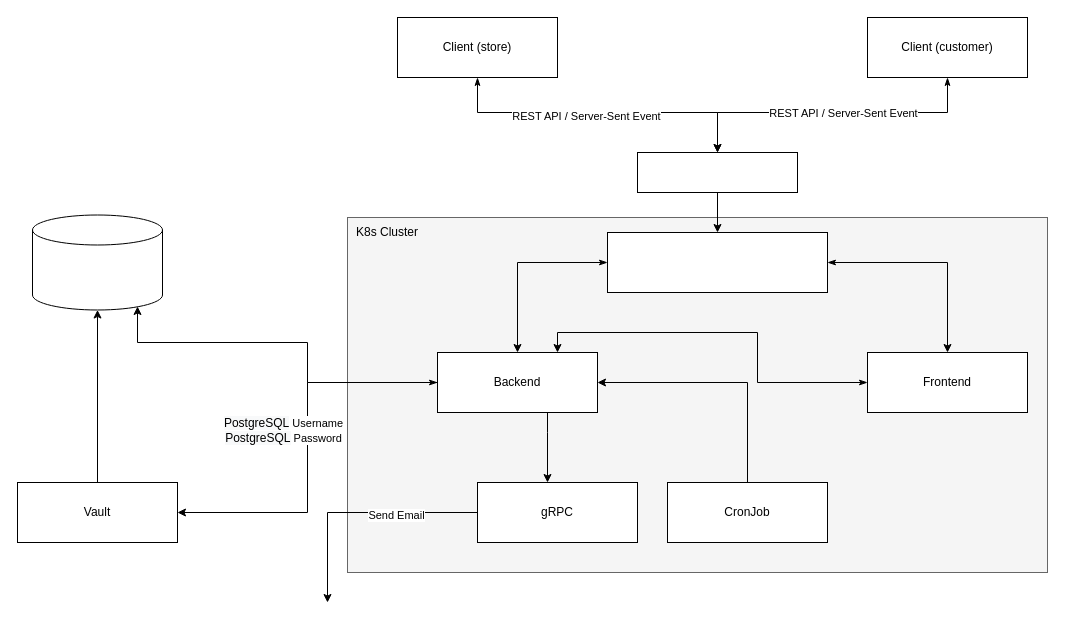
Some shapes in this 1065 by 628 pixel diagram are drawn without their labels. Here are the shapes that lost their labels. From the top down, the centre of each, then its label:
At [717,172]: "CDN".
At [97,262]: "PostgreSQL".
At [717,262]: "Ingress Controller / Load-Balancer".
